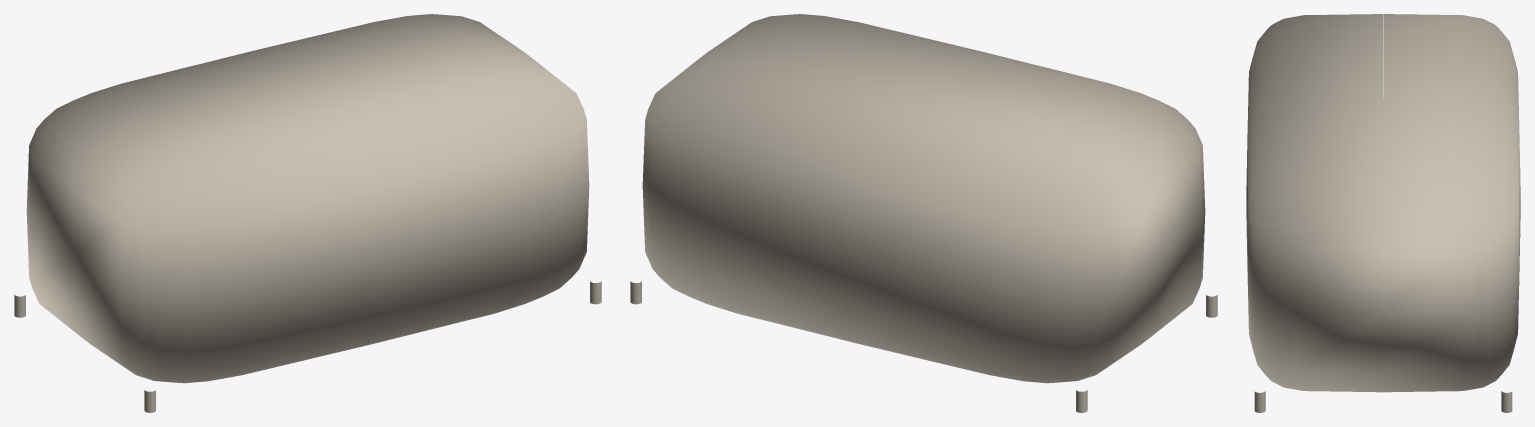
File: ikea-soderhamn-39443900-g2-proxy.glb
The picture shows the model from 3 angles, left to right: view 1: azimuth 30°, elevation 25°; view 2: azimuth 150°, elevation 25°; view 3: azimuth 270°, elevation 25°; orthographic projection. The views are drawn at different scales.
Parts seen in each view (by area): view 1: proxy_body; view 2: proxy_body; view 3: proxy_body.
Part boxes in pixels (x1,y1,x2,y2): proxy_body: (26,14,589,383); proxy_body: (642,14,1205,383); proxy_body: (1246,14,1520,392).
Bounding box in the file's own units: 1.86 × 0.83 × 0.99.
